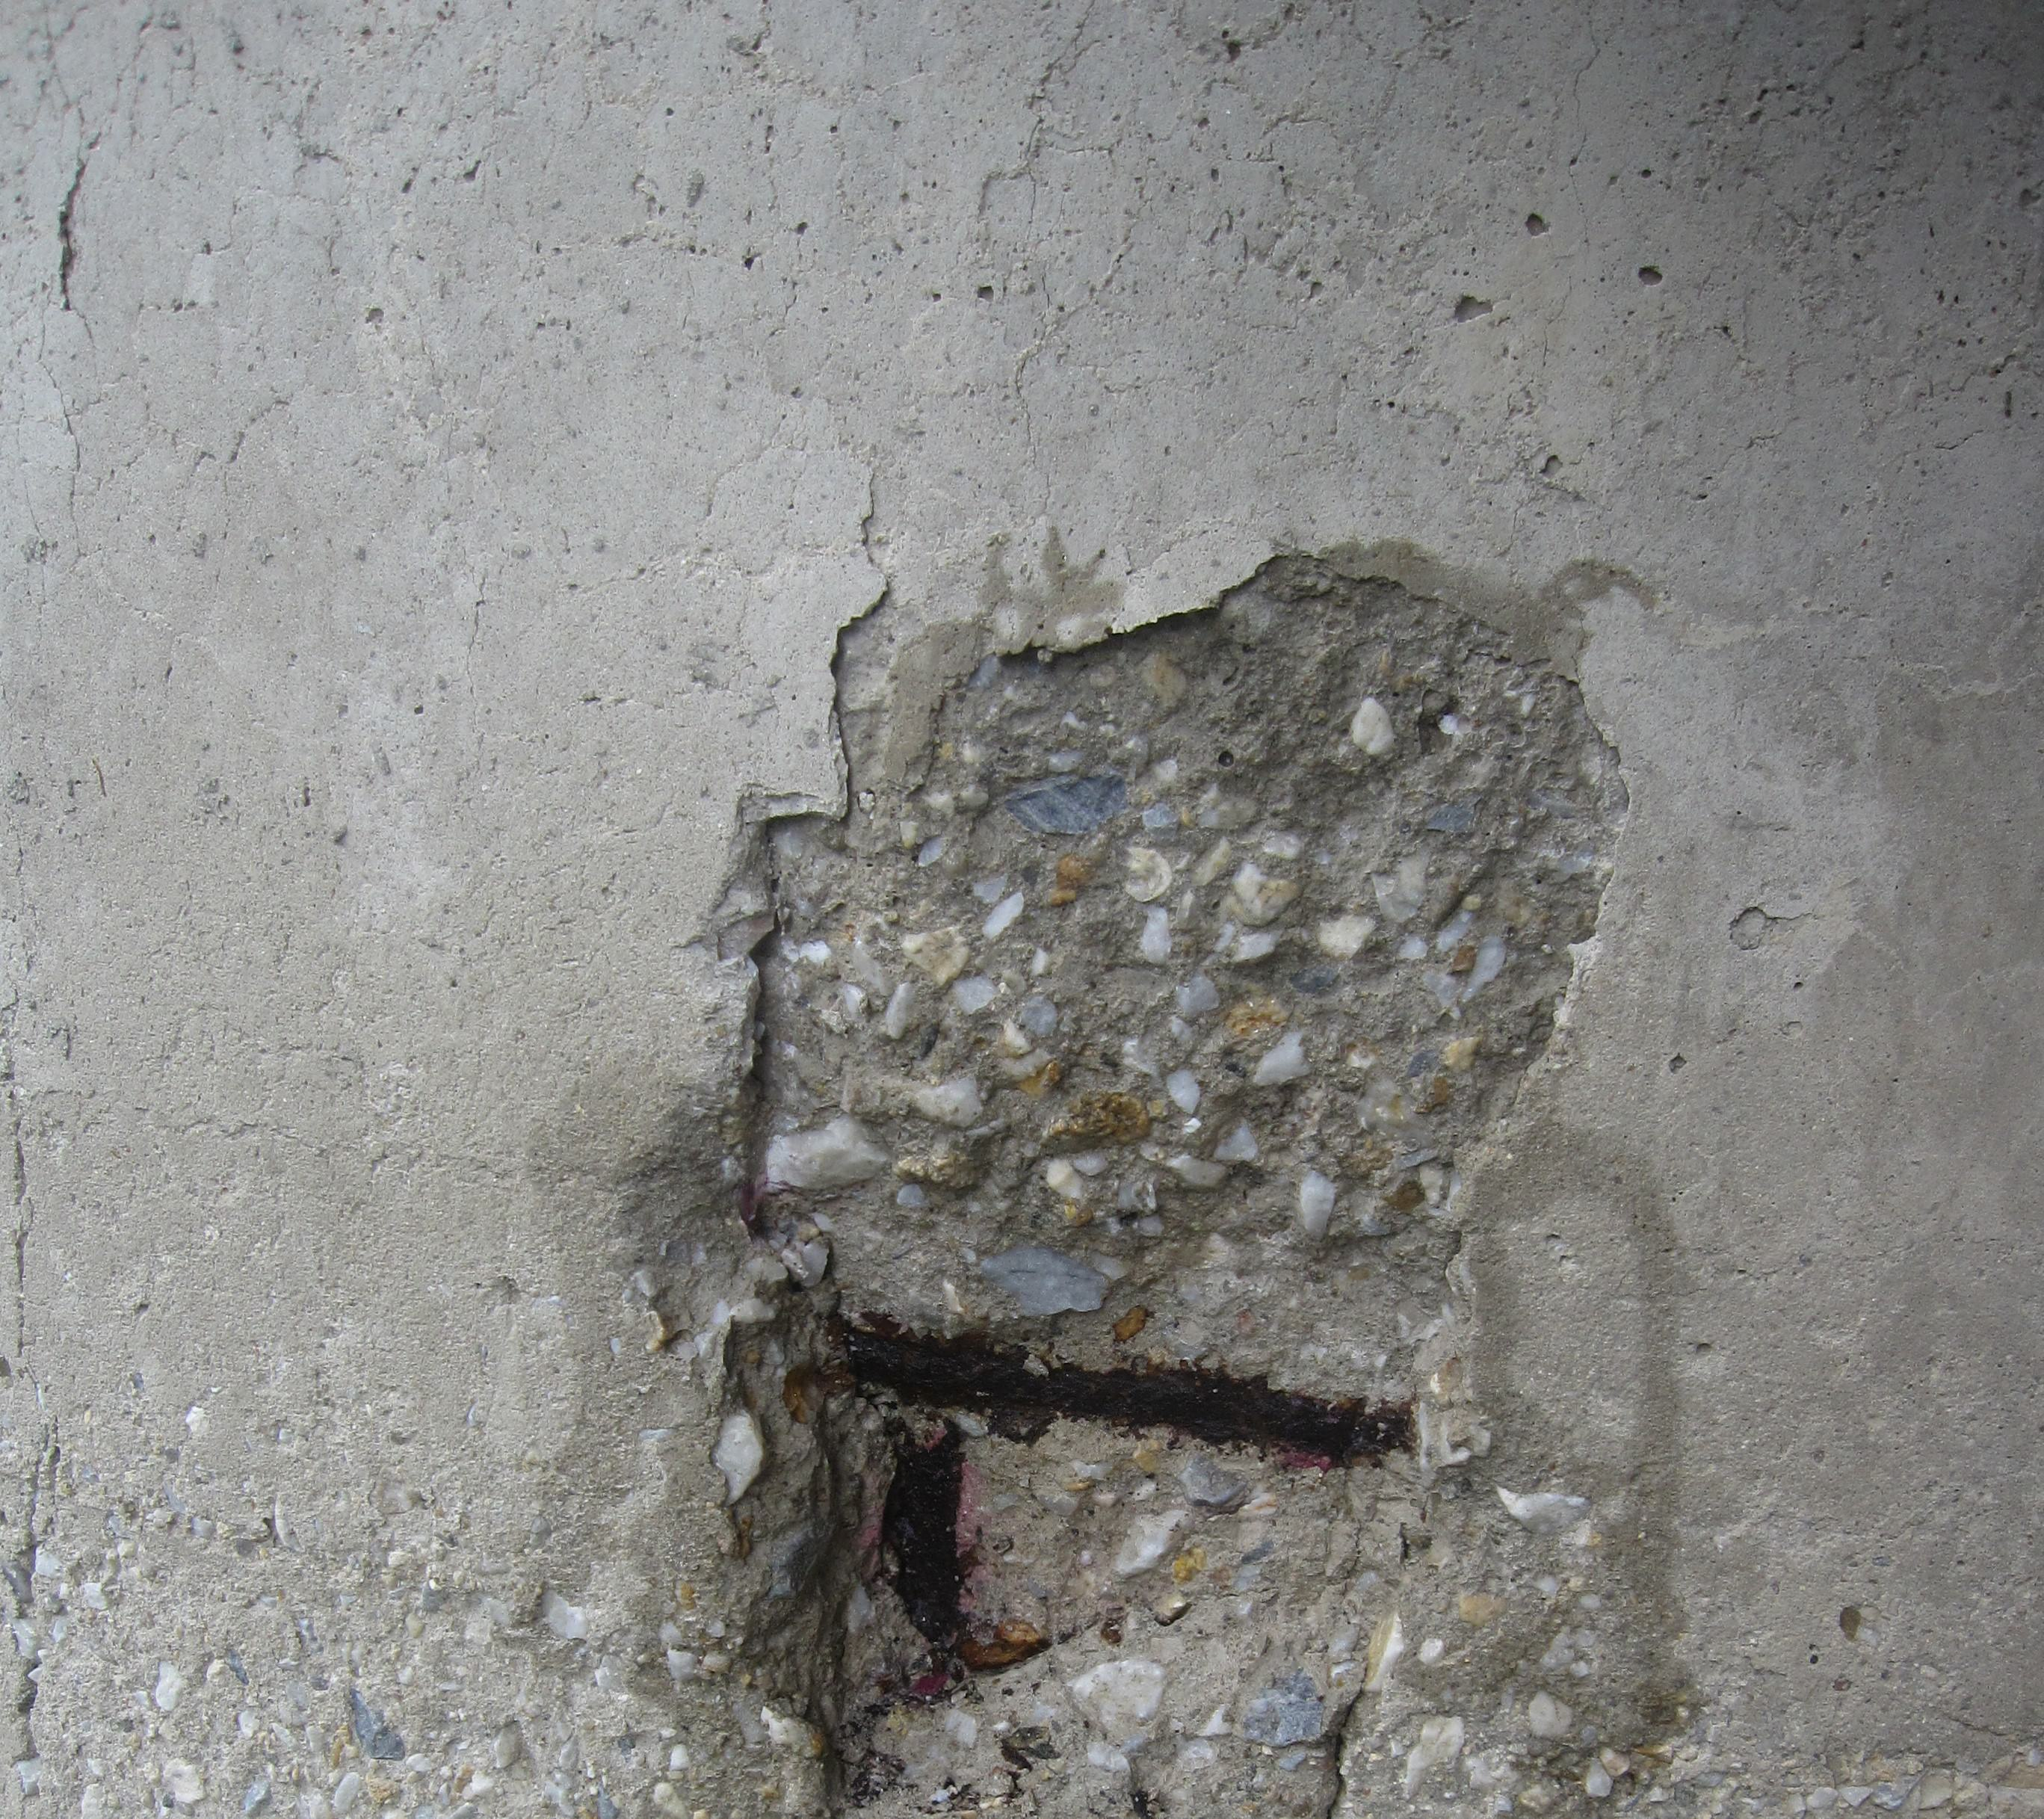Crack: (827, 472, 889, 820)
Exposed reinforcement: (850, 1340, 1412, 1464), (882, 1413, 964, 1642)
Spalling: (629, 546, 1630, 1819)
